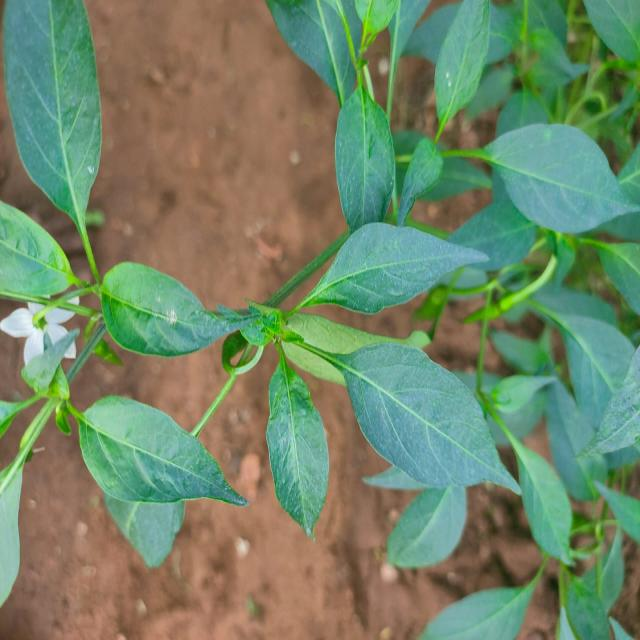Mosaic_virus: (279, 3, 640, 640), (0, 0, 235, 560)
